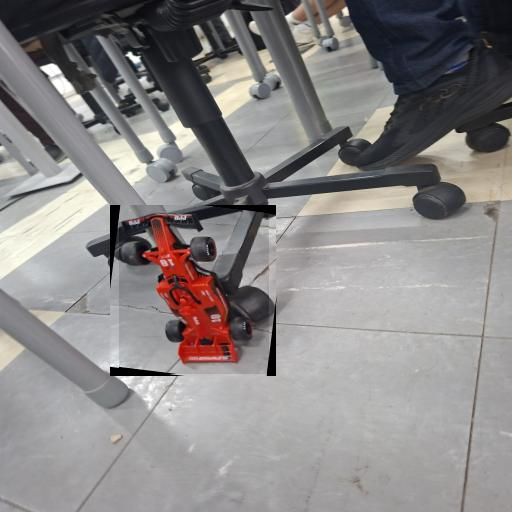carro: (119, 205, 269, 374)
